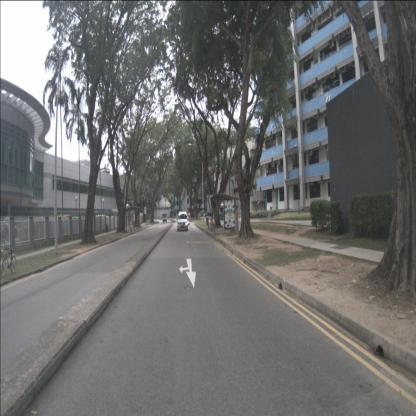human-pedestrian-adult: (210, 210, 214, 225)
vehicle-bicycle: (1, 238, 18, 280)
vehicle-car: (177, 211, 188, 232), (162, 212, 167, 224)
